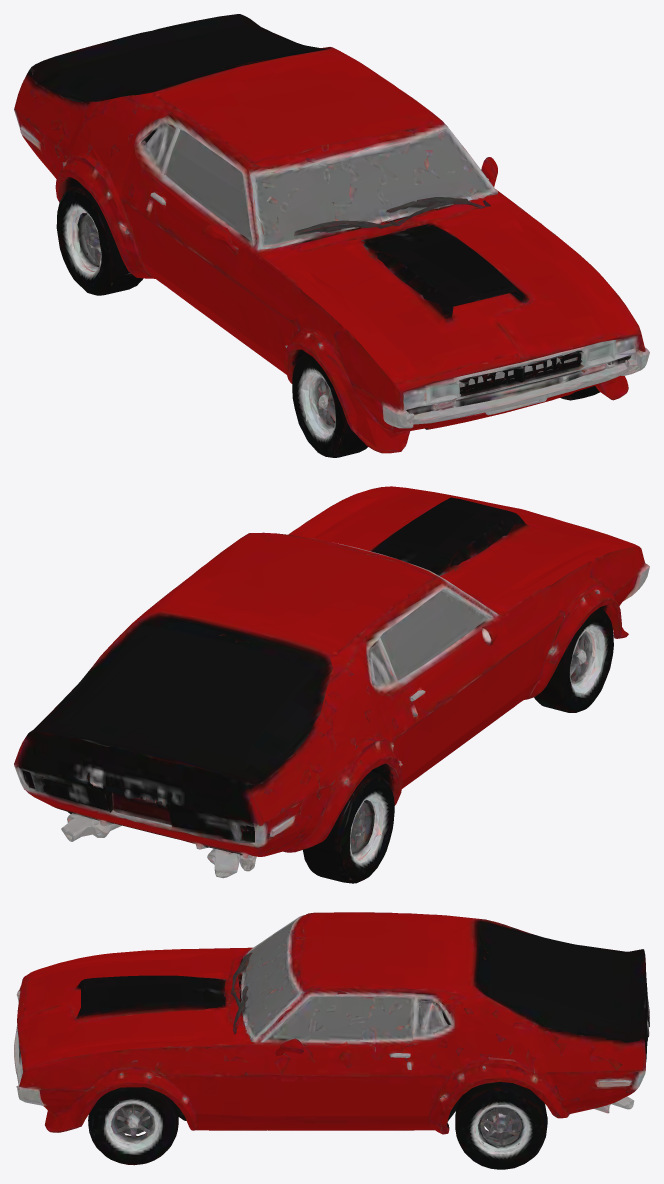
Rendered from traffic-coupe.glb.
The picture shows the model from 3 angles, top to bottom: view 1: azimuth 30°, elevation 25°; view 2: azimuth 150°, elevation 25°; view 3: azimuth 270°, elevation 25°; orthographic projection. The views are drawn at different scales.
Parts seen in each view (by area): view 1: geometry_0; view 2: geometry_0; view 3: geometry_0.
Part boxes in pixels (x1,y1,x2,y2): geometry_0: (14,14,649,457); geometry_0: (14,486,649,883); geometry_0: (14,912,649,1169).
Size of the model in its own units: 0.4385 by 0.296 by 1.
Materials: 1 (1 with a texture image).
